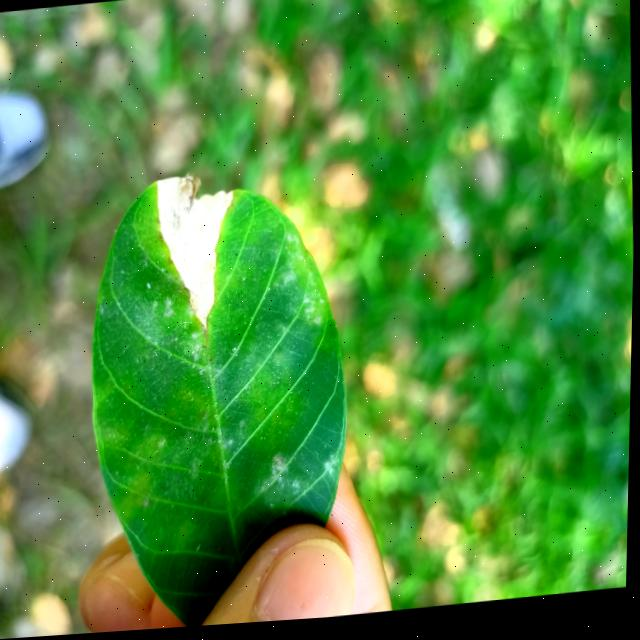Leaf-Blight: (152, 171, 237, 335)
